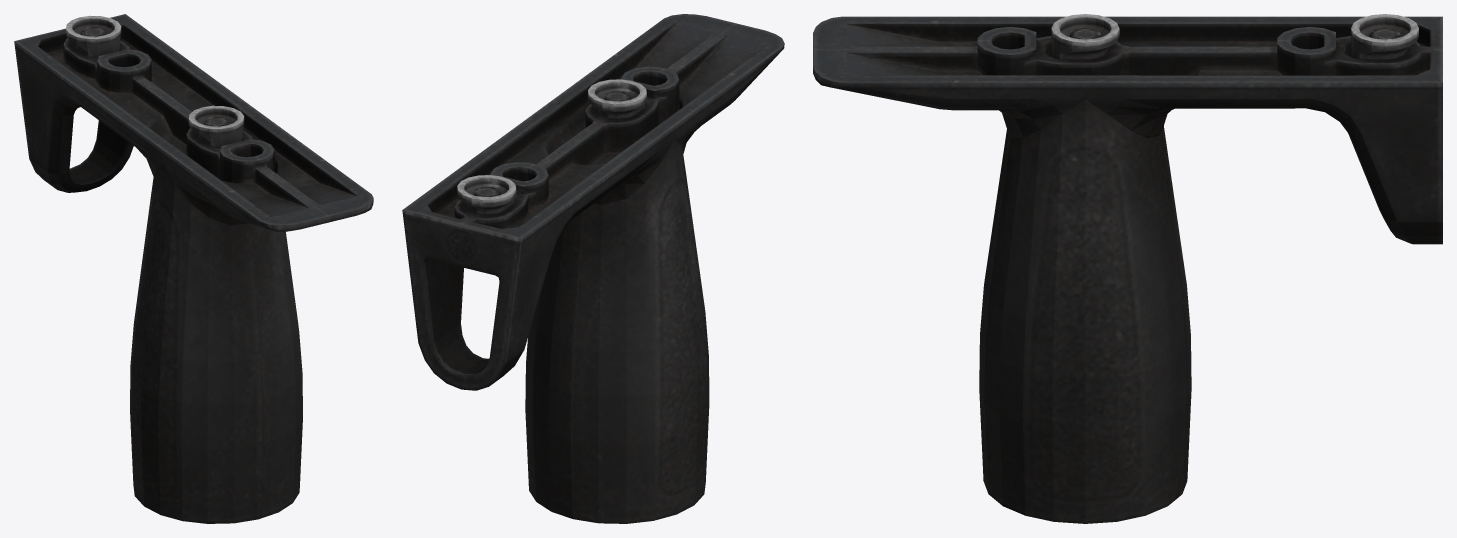
3 views of the same model, side by side, from view 1: azimuth 30°, elevation 25°; view 2: azimuth 150°, elevation 25°; view 3: azimuth 270°, elevation 25° (orthographic). The views are drawn at different scales.
Visible parts, largest first — view 1: TW_5fc0f9b5d724d907e2077d82_PZ_Import; view 2: TW_5fc0f9b5d724d907e2077d82_PZ_Import; view 3: TW_5fc0f9b5d724d907e2077d82_PZ_Import.
Part boxes in pixels (bbox=[...]): TW_5fc0f9b5d724d907e2077d82_PZ_Import: bbox=[14, 14, 373, 523]; TW_5fc0f9b5d724d907e2077d82_PZ_Import: bbox=[402, 14, 784, 523]; TW_5fc0f9b5d724d907e2077d82_PZ_Import: bbox=[813, 14, 1442, 523].
Bounding box in the file's own units: 0.0163 × 0.0485 × 0.0385.
1 material, 1 textured.
